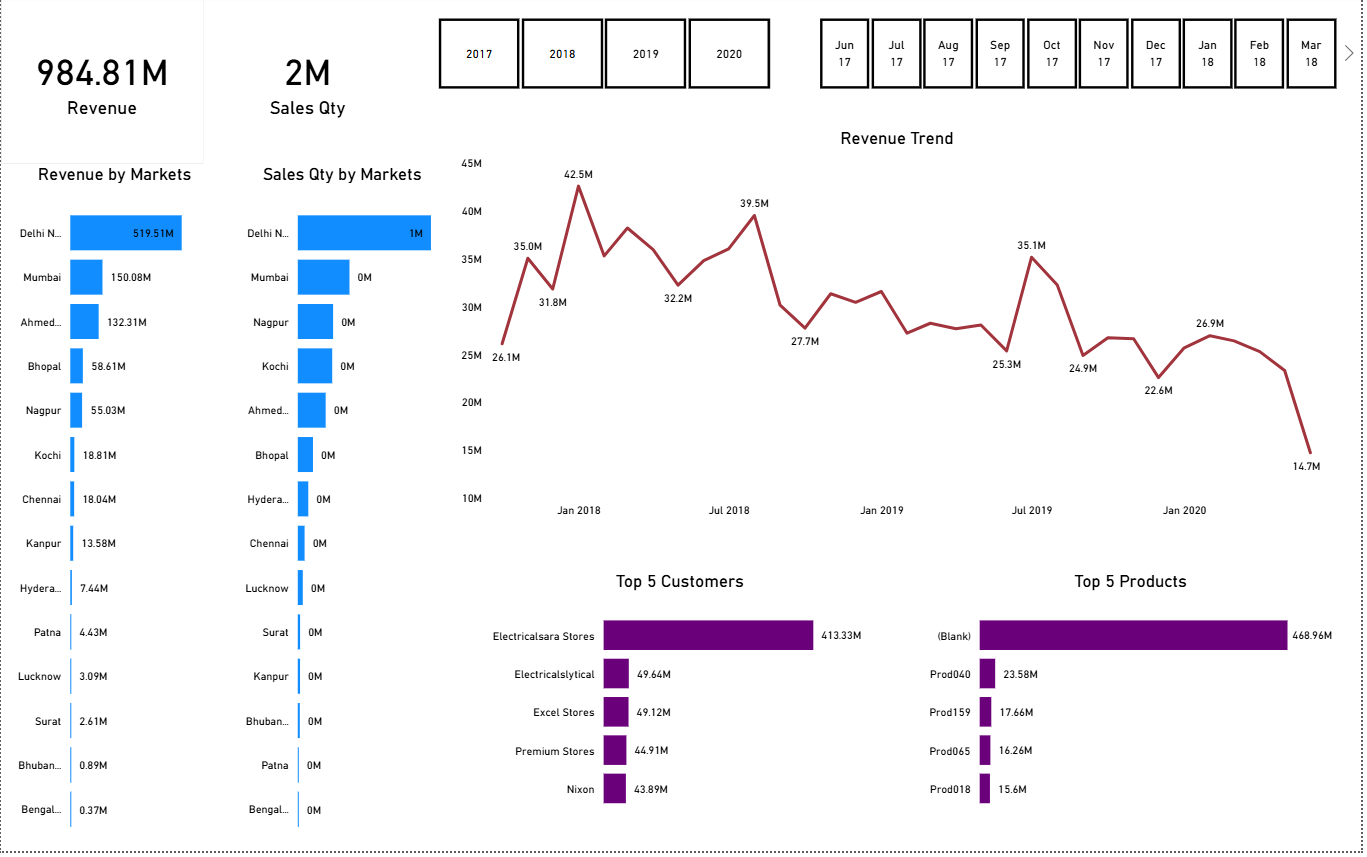

The page's visual inventory and layout, read from the dashboard file:
{"tool":"powerbi","page":{"name":"Page 1","canvas":[1350,850],"ordinal":0},"visuals":[{"type":"card","fields":{"Values":["BaseMeasures.Revenue"]},"box":[0,0,201.1,167.6],"z":0},{"type":"card","fields":{"Values":["BaseMeasures.Sales Qty"]},"box":[201.1,0,207.3,167.6],"z":1000},{"type":"barChart","title":"Revenue by Markets","fields":{"Y":["BaseMeasures.Revenue"],"Category":["sales markets.markets_name"]},"box":[0,167.9,225.8,681.7],"z":2000},{"type":"barChart","title":"Sales Qty by Markets","fields":{"Y":["BaseMeasures.Sales Qty"],"Category":["sales markets.markets_name"]},"box":[225.8,167.9,225.8,681.7],"z":3000},{"type":"slicer","fields":{"Values":["sales date.year"]},"box":[408.1,15.9,379.2,83.9],"z":4000},{"type":"slicer","fields":{"Values":["sales date.cy_date"]},"box":[787.3,15.9,563,83.9],"z":5000},{"type":"barChart","title":"Top 5 Customers","fields":{"Y":["BaseMeasures.Revenue"],"Category":["sales customers.custmer_name"]},"box":[481.9,571.7,385,251.8],"z":6000},{"type":"barChart","title":"Top 5 Products","fields":{"Y":["BaseMeasures.Revenue"],"Category":["sales products.product_code"]},"box":[916.1,571.7,411,251.8],"z":7000},{"type":"lineChart","title":"Revenue Trend","fields":{"Y":["BaseMeasures.Revenue"],"Category":["sales date.cy_date"]},"box":[451.5,131.7,875.6,395.1],"z":8000}]}

Visuals, with their boxes in screenshot pixels (x1, y1, x2, y2), scaled from the page's 1350x850 canvas onto the 1367x857 screenshot:
card - BaseMeasures.Revenue: box=[0, 0, 204, 169]
card - BaseMeasures.Sales Qty: box=[204, 0, 414, 169]
"Revenue by Markets" barChart: box=[0, 169, 229, 856]
"Sales Qty by Markets" barChart: box=[229, 169, 457, 856]
slicer - sales date.year: box=[413, 16, 797, 101]
slicer - sales date.cy_date: box=[797, 16, 1366, 101]
"Top 5 Customers" barChart: box=[488, 576, 878, 830]
"Top 5 Products" barChart: box=[928, 576, 1344, 830]
"Revenue Trend" lineChart: box=[457, 133, 1344, 531]
